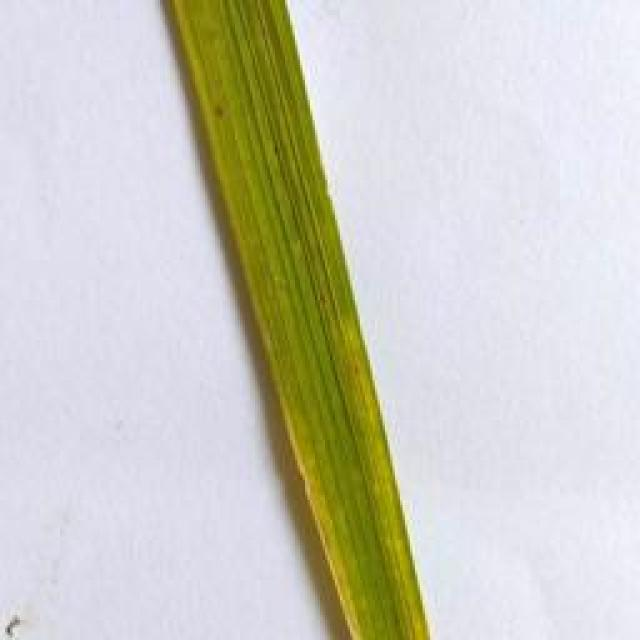Bacterial_Blight: (337, 282, 437, 640), (261, 403, 368, 640)
Brown_Spot: (208, 102, 239, 124)
